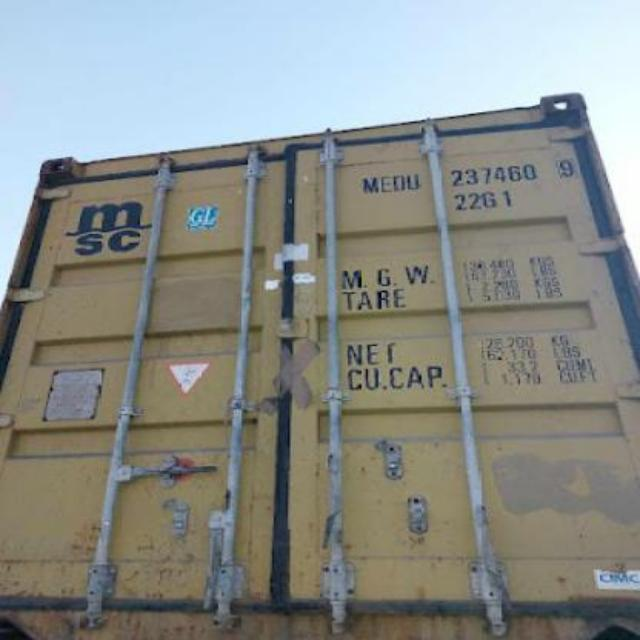0: (520, 161, 542, 179)
2: (452, 166, 470, 188)
3: (462, 169, 480, 185)
4: (490, 164, 510, 180)
6: (504, 164, 524, 180)
7: (481, 163, 494, 184)
9: (556, 158, 578, 178)
D: (390, 170, 406, 194)
E: (378, 172, 398, 195)
M: (358, 173, 382, 197)
U: (406, 172, 422, 194)
